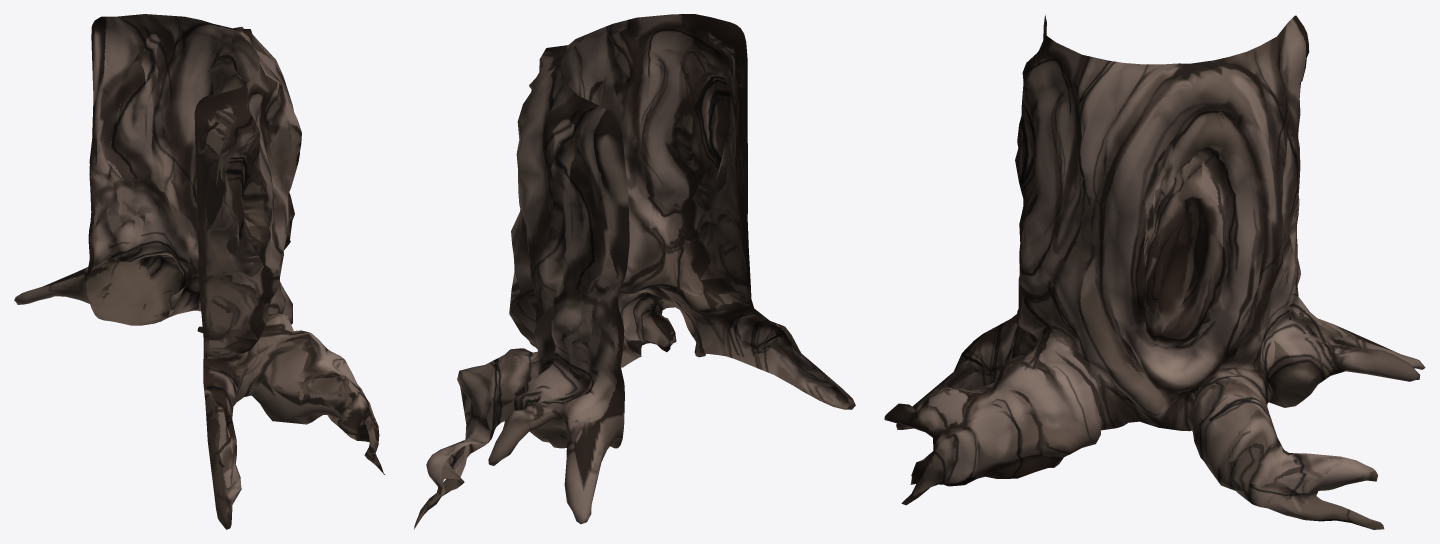
Rendered from Arbol_1.fbx.
3 views of the same model, side by side, from view 1: azimuth 30°, elevation 25°; view 2: azimuth 150°, elevation 25°; view 3: azimuth 270°, elevation 25° (orthographic). The views are drawn at different scales.
Parts seen in each view (by area): view 1: Arbol_1; view 2: Arbol_1; view 3: Arbol_1.
Boxes of the visible parts, box(x1,y1,x2,y2) form: Arbol_1: box(14, 14, 384, 529); Arbol_1: box(414, 14, 855, 529); Arbol_1: box(884, 15, 1425, 529).
Bounding box in the file's own units: 1298 × 2235 × 2486.
